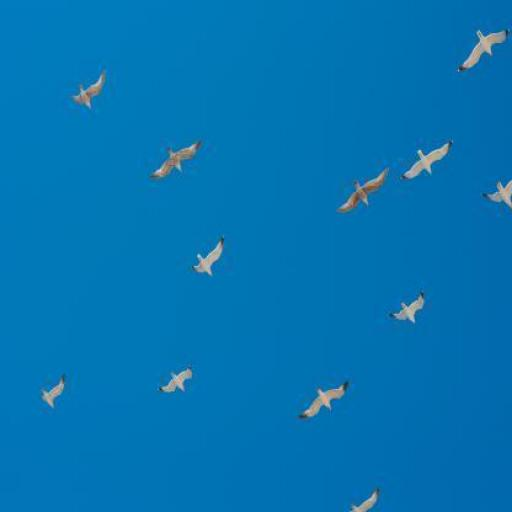bird: (456, 28, 510, 74), (337, 167, 390, 213), (400, 138, 454, 181), (296, 379, 350, 421), (148, 139, 200, 182), (192, 236, 226, 281), (70, 70, 107, 111), (388, 289, 426, 325), (156, 364, 194, 394), (480, 178, 512, 213), (37, 373, 66, 411), (346, 486, 384, 512)
